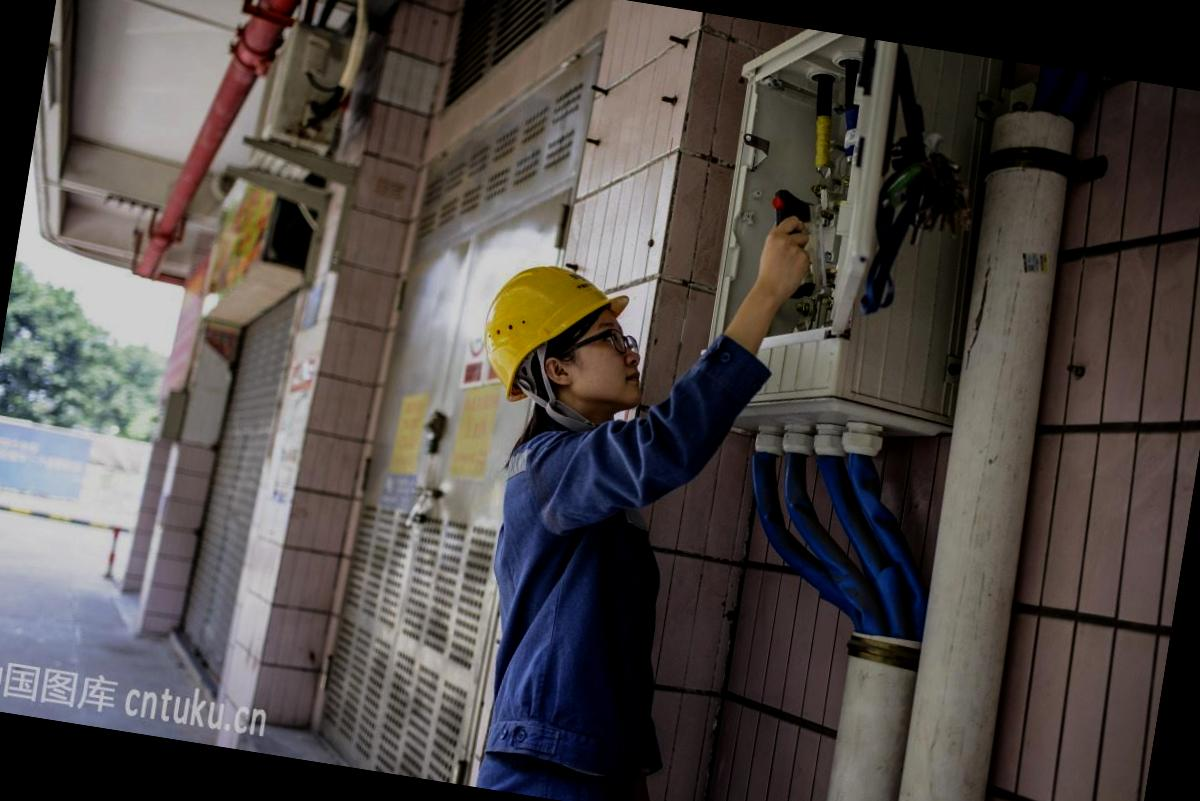helmet: (474, 256, 634, 406)
no_vest: (464, 415, 646, 734)
person: (392, 246, 766, 801)
